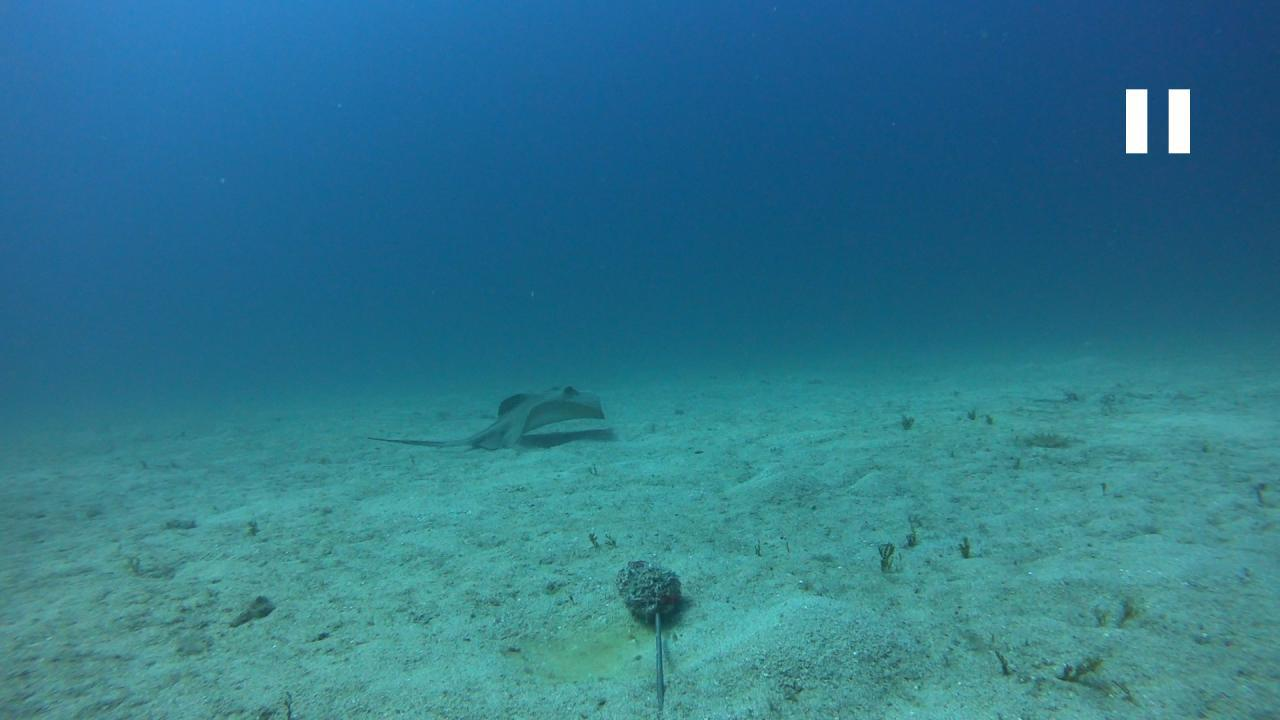dasyatis: (362, 385, 606, 450)
